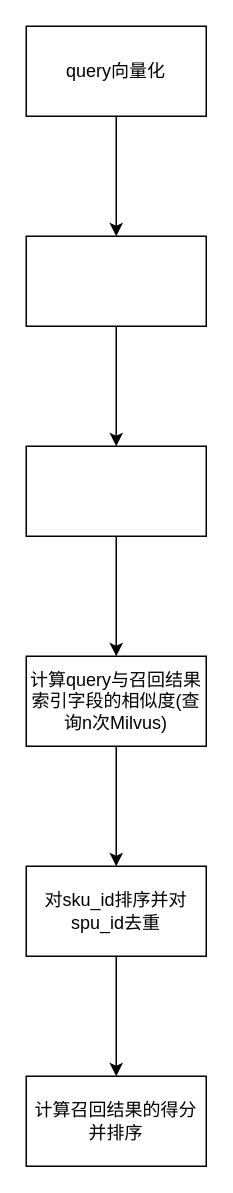
Image size: 233x1193. Some labels were removed from this diagram. Here are the shapes that lost their labels. From the top down, the centre of each, then its label:
At [115,280]: "根据过滤条件查询Milvus得到初始召回结果(查询1次Milvus)".
At [115,490]: "根据sku_id去重得到image_id集合作为过滤条件".
